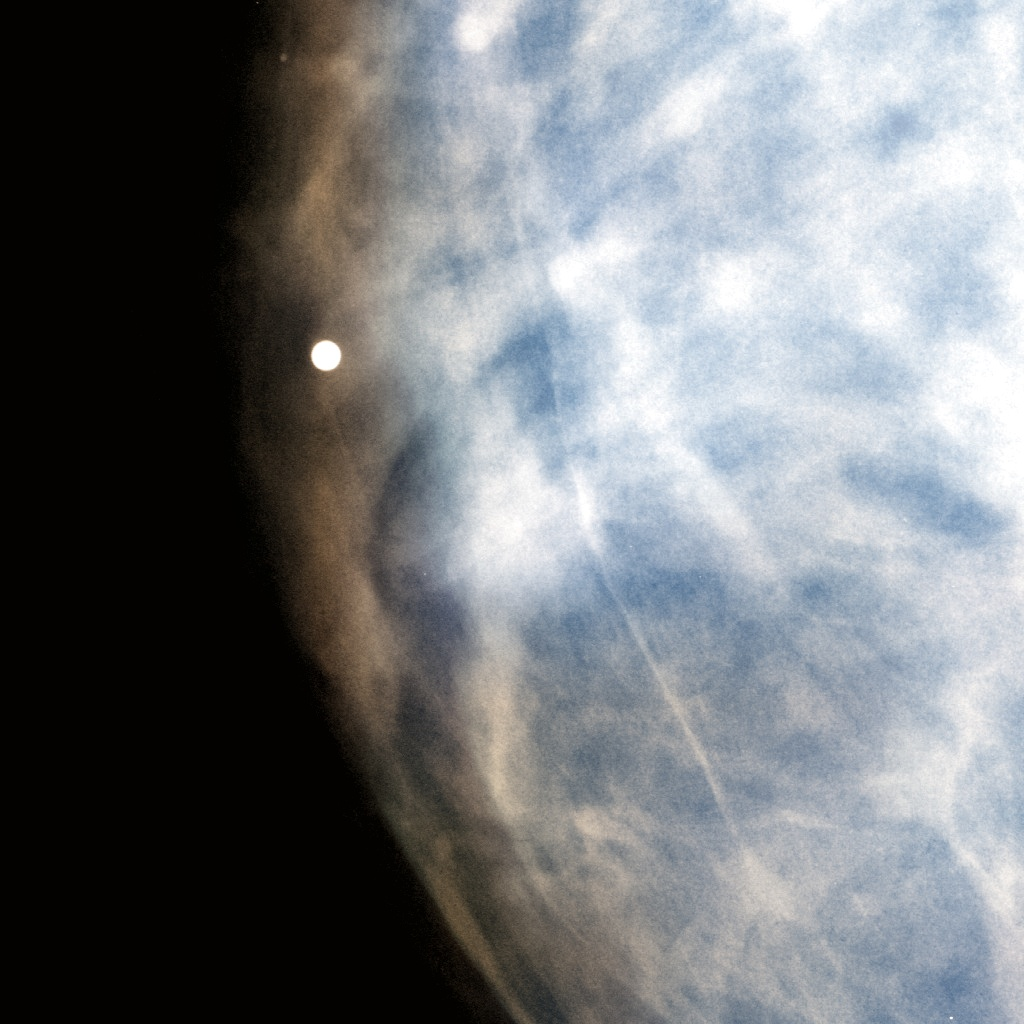tumor: (395, 381, 629, 643)
